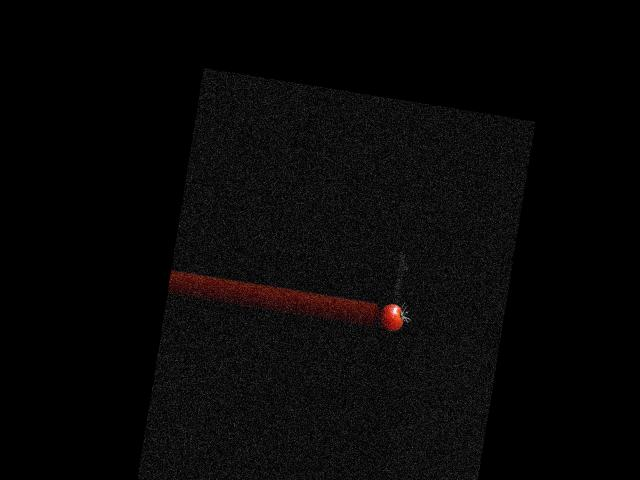tomato: (378, 302, 405, 332)
